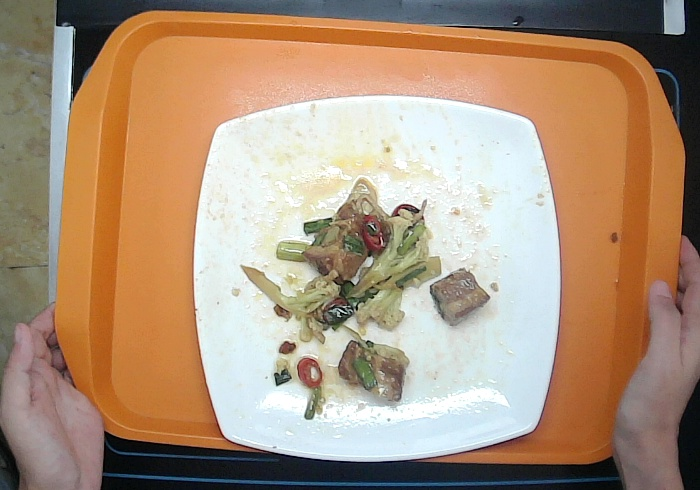ZNLD-Bai_Fang_Pan: (190, 92, 562, 463)
